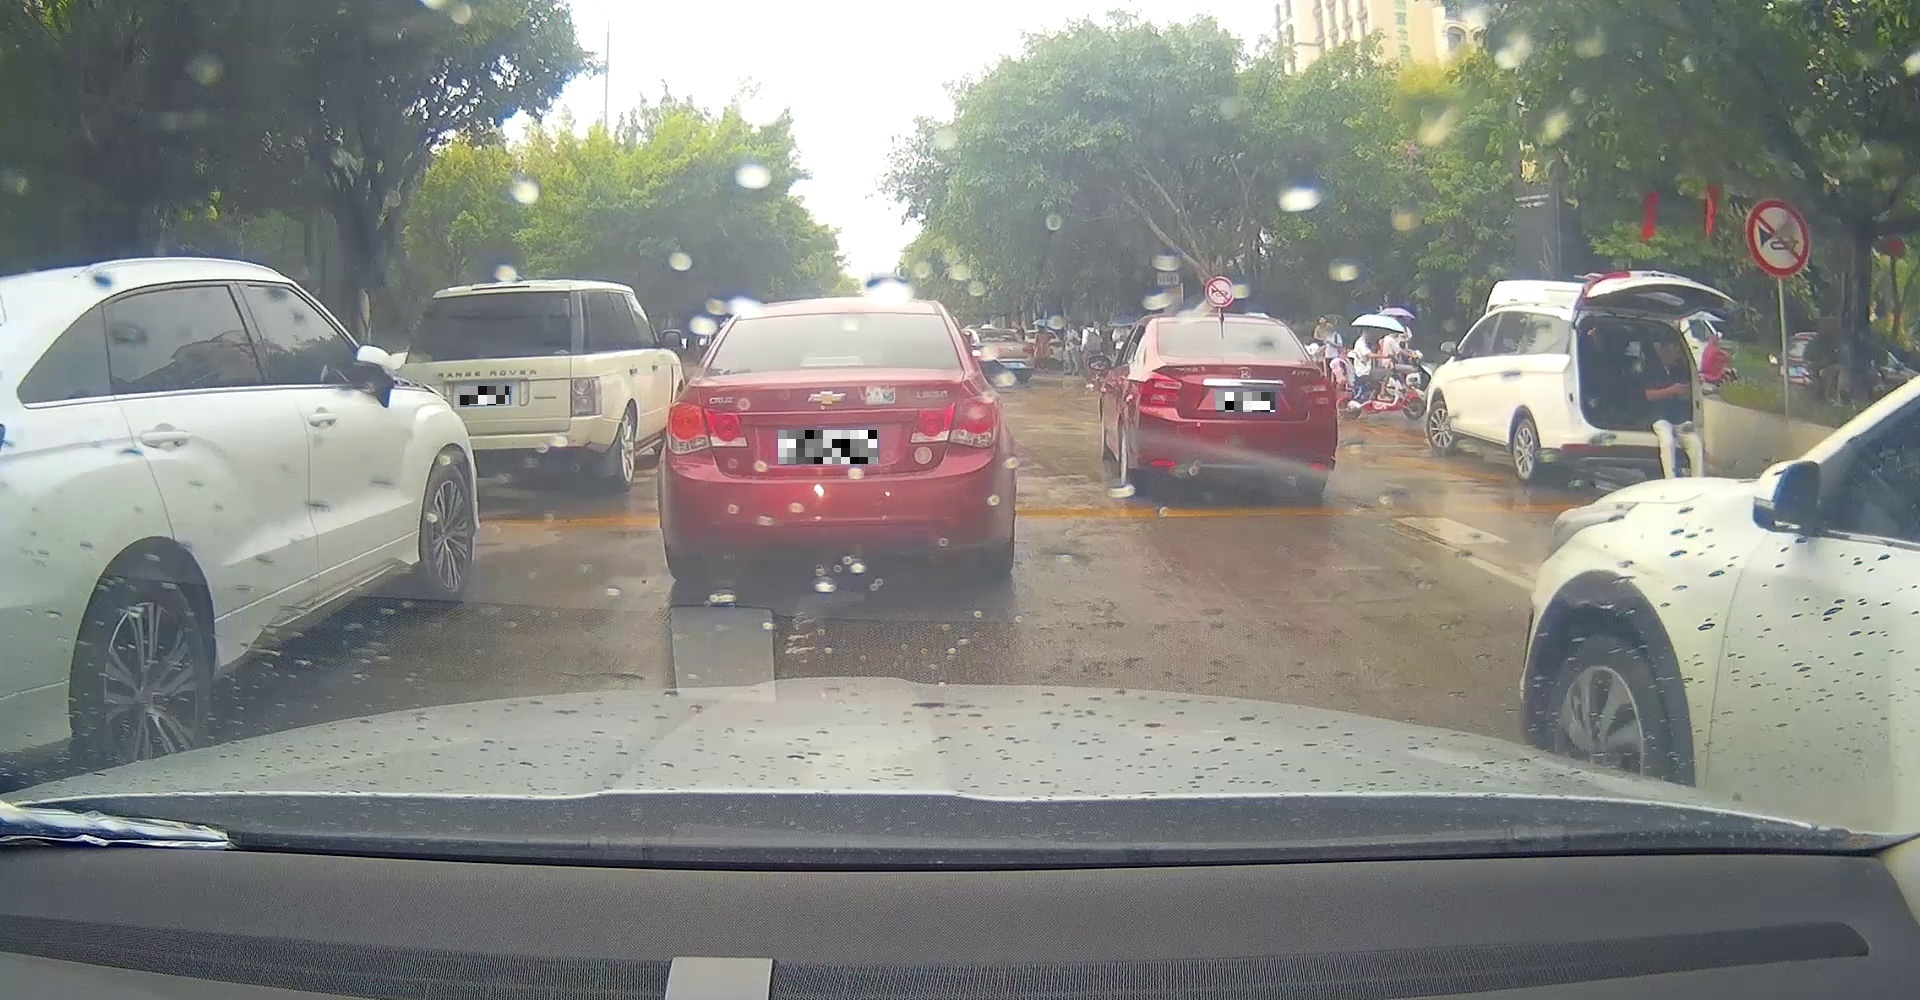L_light: (665, 401, 748, 454), (1137, 371, 1182, 404)
R_light: (910, 392, 1001, 447), (1299, 376, 1335, 407)
T_light: (803, 357, 860, 365), (1214, 321, 1241, 327)
day-no: (659, 303, 1013, 582), (1134, 319, 1337, 494)
plate_1: (460, 386, 509, 405)
plate_2: (778, 430, 877, 464)
plate_3: (1217, 392, 1275, 412)
